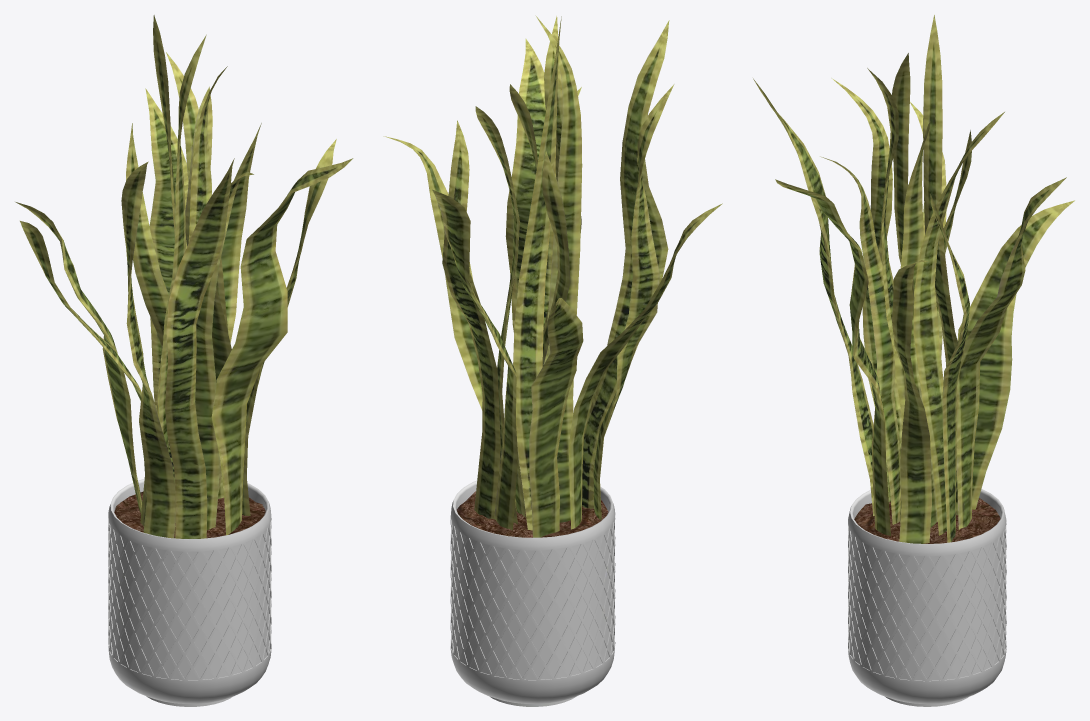
Rendered from plant.glb.
3 views of the same model, side by side, from view 1: azimuth 30°, elevation 25°; view 2: azimuth 150°, elevation 25°; view 3: azimuth 270°, elevation 25° (orthographic). The views are drawn at different scales.
Visible parts, largest first — view 1: Snake plant in a pot; view 2: Snake plant in a pot; view 3: Snake plant in a pot.
Part boxes in pixels (<box>): Snake plant in a pot: <box>15,15,353,706</box>; Snake plant in a pot: <box>383,15,722,706</box>; Snake plant in a pot: <box>753,15,1074,706</box>.
Size of the model in its own units: 0.6481 by 1.28 by 0.5701.
1 material, 1 textured.
